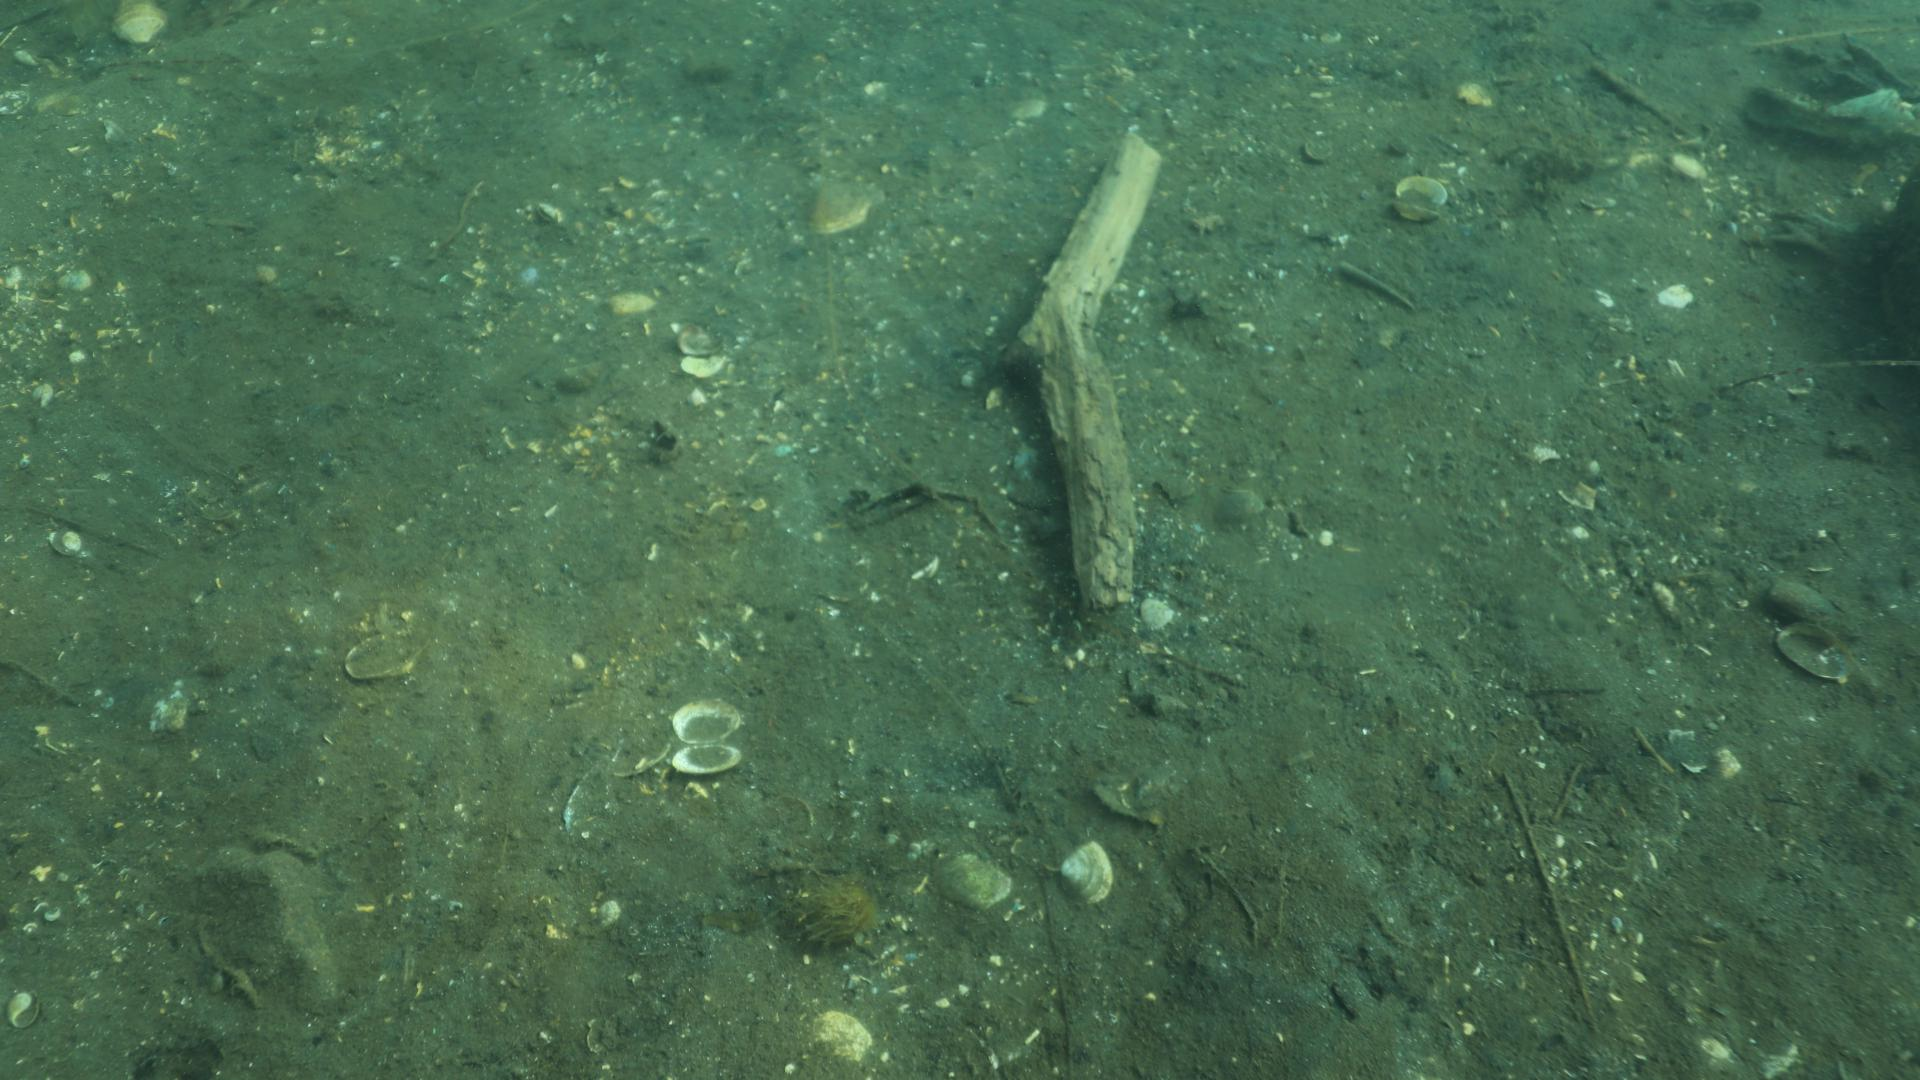wood: (1013, 128, 1162, 611)
